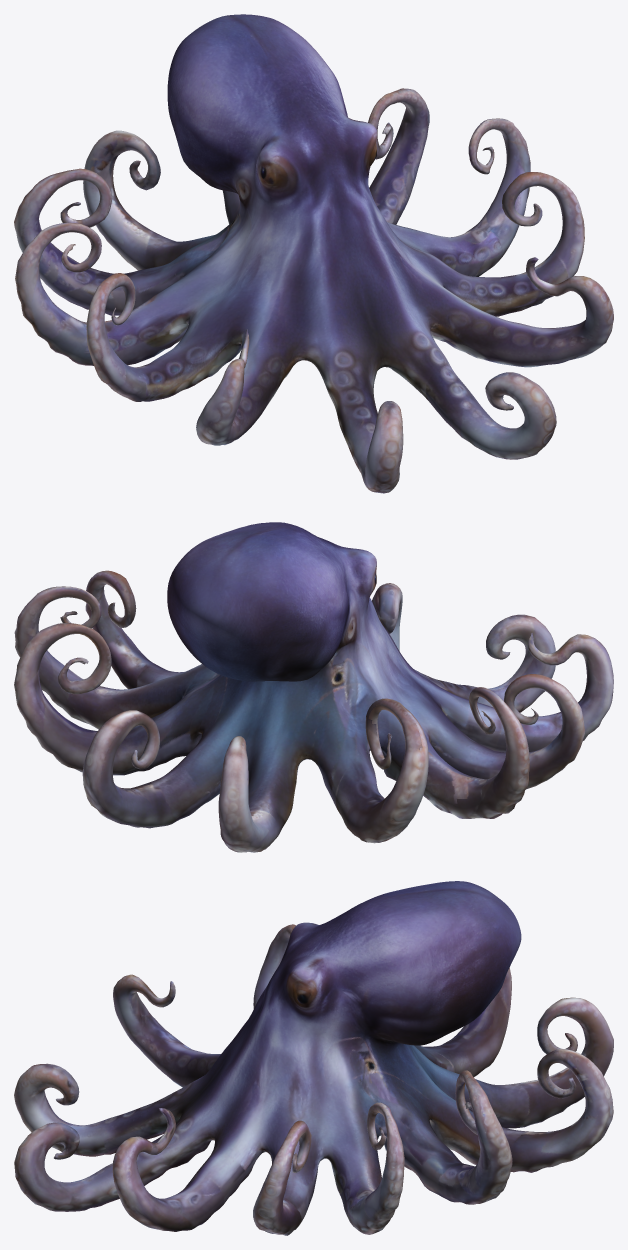
The model's file is Octopus_0613155333_.fbx.
The picture shows the model from 3 angles, top to bottom: view 1: azimuth 30°, elevation 25°; view 2: azimuth 150°, elevation 25°; view 3: azimuth 270°, elevation 25°; orthographic projection. The views are drawn at different scales.
Visible parts, largest first — view 1: Mesh1_Mesh1.007; view 2: Mesh1_Mesh1.007; view 3: Mesh1_Mesh1.007.
Part boxes in pixels (x1,y1,x2,y2): Mesh1_Mesh1.007: [14, 14, 613, 493]; Mesh1_Mesh1.007: [14, 522, 613, 852]; Mesh1_Mesh1.007: [14, 881, 613, 1235].
Bounding box in the file's own units: 187 × 107 × 199.
1 material, 1 textured.
